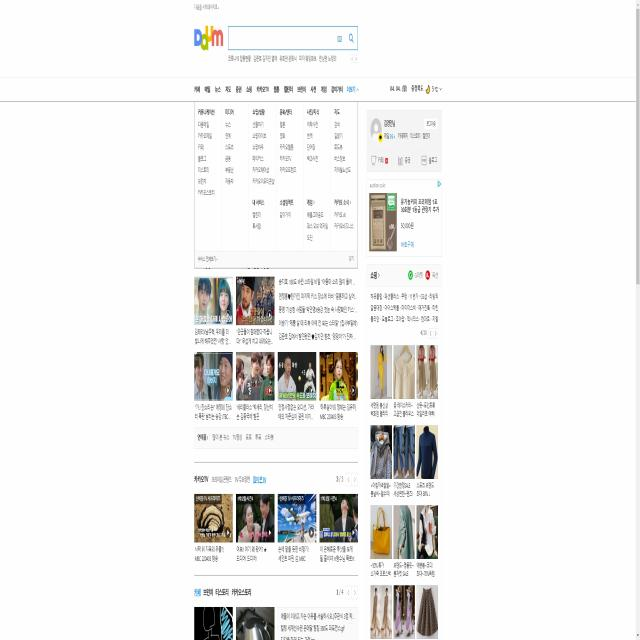menu-panel: (194, 101, 356, 268)
search: (225, 22, 359, 52)
side-panel: (365, 109, 443, 639)
tab-bar: (192, 80, 360, 98), (193, 430, 280, 447)
